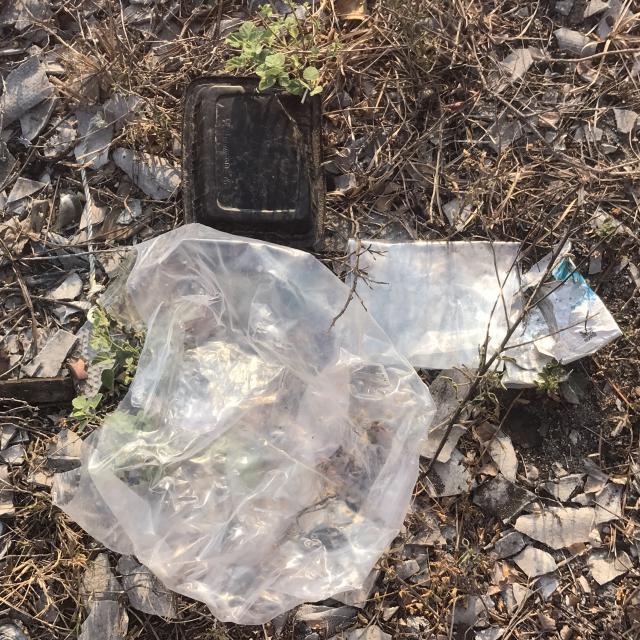Single-layer Plastic: (52, 224, 435, 624), (348, 240, 521, 369)
